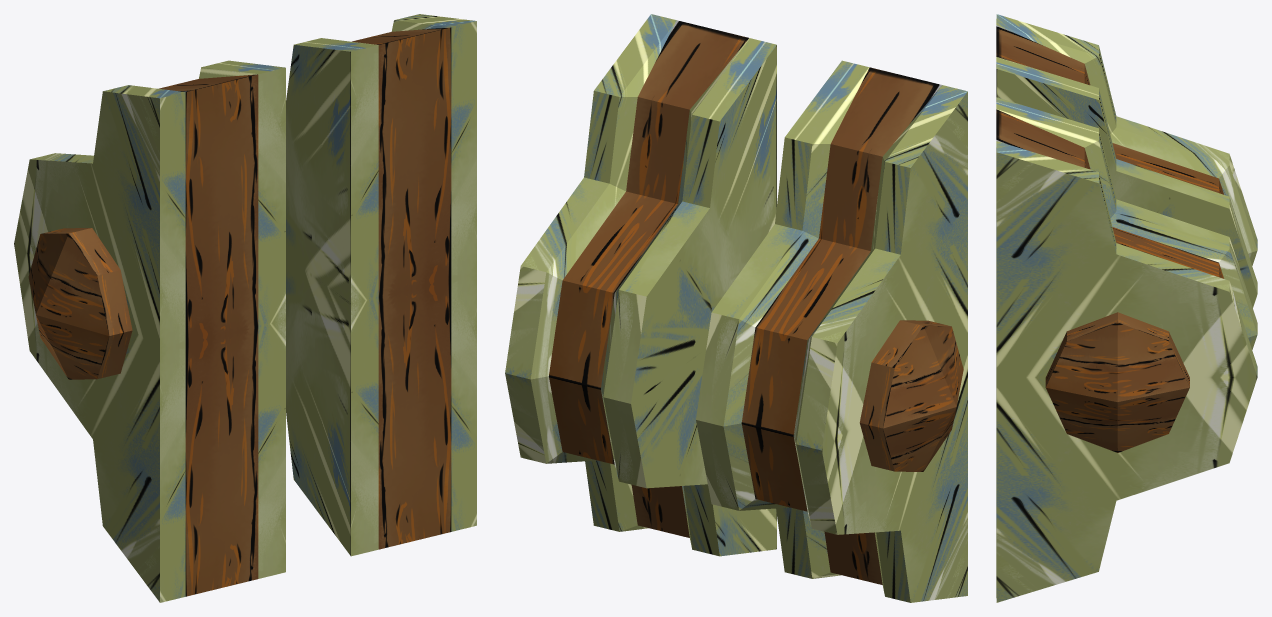
File: palanca.fbx
3 renders of one model, left to right at view 1: azimuth 30°, elevation 25°; view 2: azimuth 150°, elevation 25°; view 3: azimuth 270°, elevation 25°, orthographic. The views are drawn at different scales.
Visible parts, largest first — view 1: Cube.008; view 2: Cube.008; view 3: Cube.008.
Part boxes in pixels (x1,y1,x2,y2): Cube.008: (14,14,476,602); Cube.008: (505,14,967,602); Cube.008: (996,14,1257,602).
Bounding box in the file's own units: 115 × 129 × 67.91.
